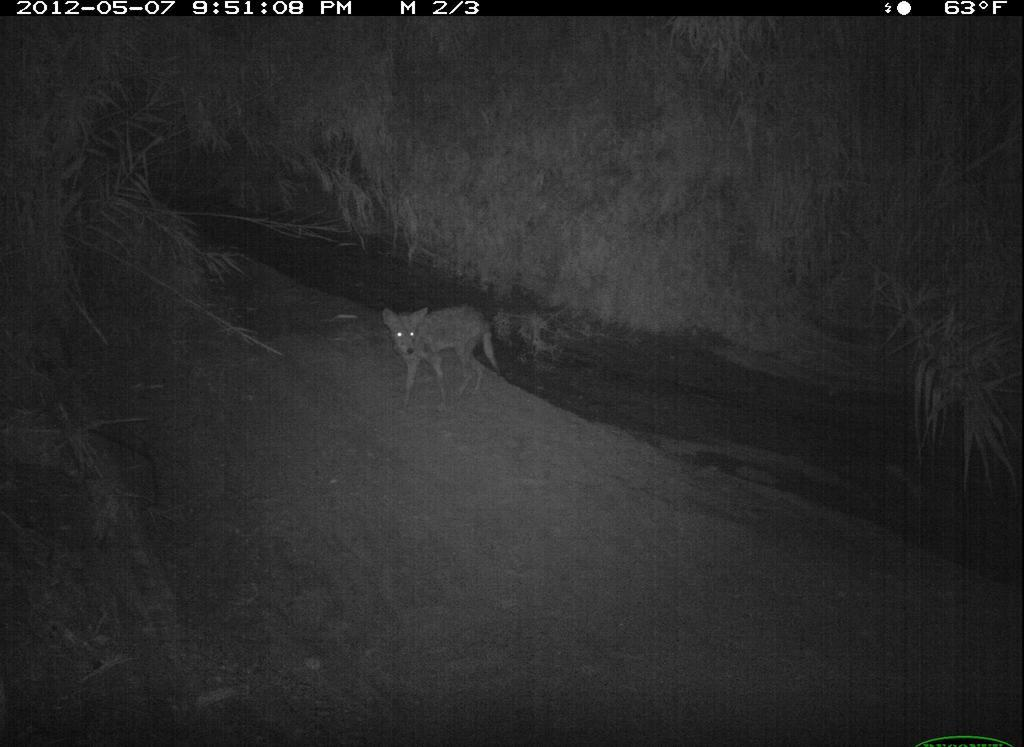coyote: (752, 600, 1022, 747)
